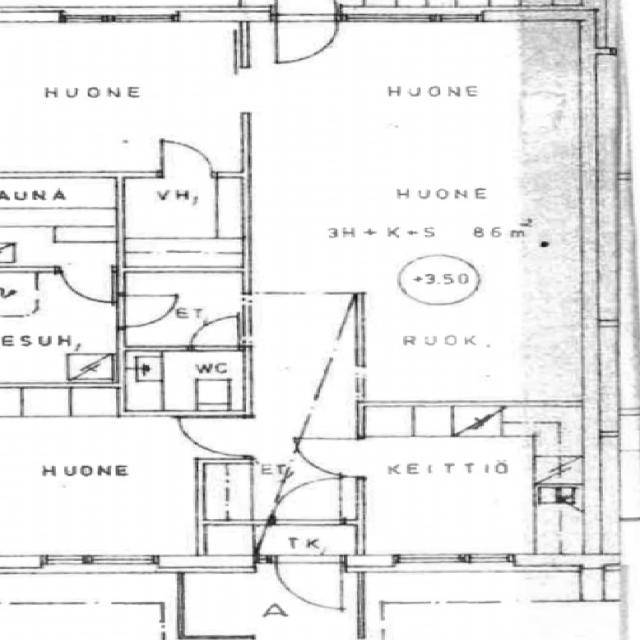door: (275, 554, 341, 614), (272, 478, 341, 524), (276, 7, 336, 58), (293, 438, 364, 477), (178, 418, 248, 456), (58, 267, 112, 304), (161, 141, 212, 177), (117, 296, 176, 326), (189, 317, 237, 352), (276, 0, 336, 22)
